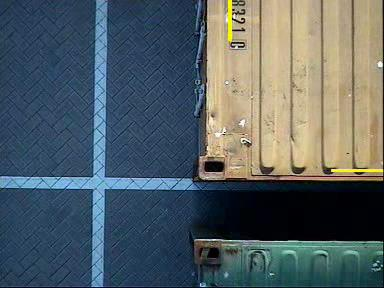groundmarker_2: (101, 56, 174, 107), (96, 191, 169, 242)
